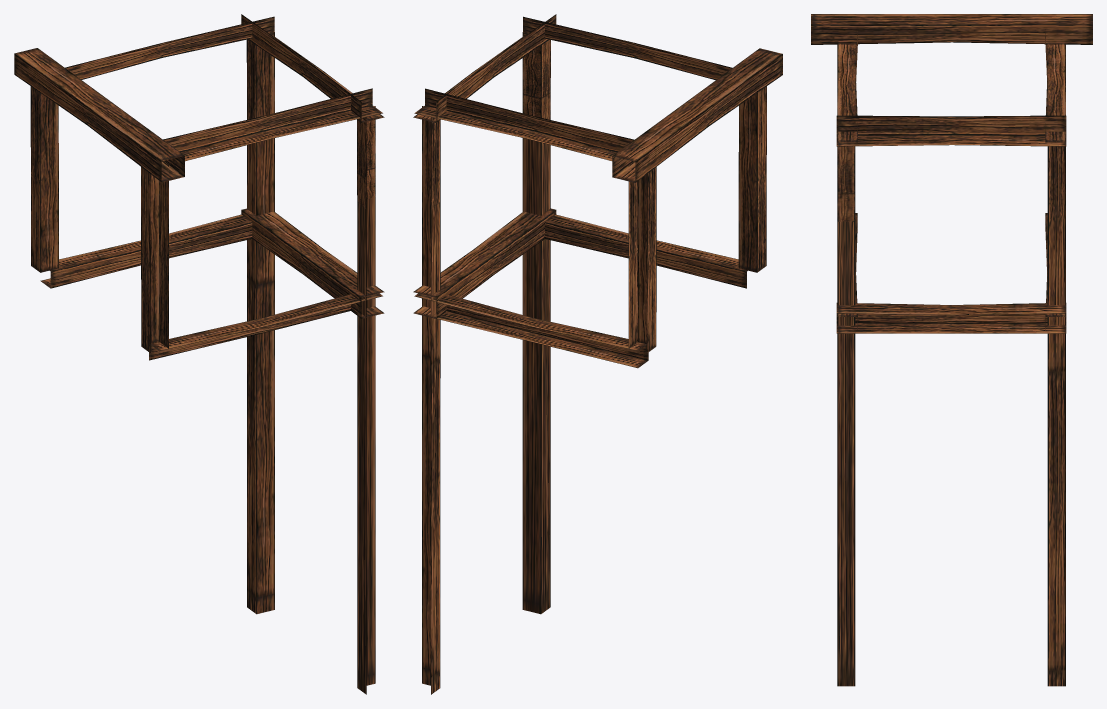
File: LAKETOWN_WAREHOUSE2_PS_WH2_BEAMS4475.fbx
3 views of the same model, side by side, from view 1: azimuth 30°, elevation 25°; view 2: azimuth 150°, elevation 25°; view 3: azimuth 270°, elevation 25° (orthographic). The views are drawn at different scales.
Visible parts, largest first — view 1: LAKETOWN_WAREHOUSE2_PS_WH2_BEAMS4475; view 2: LAKETOWN_WAREHOUSE2_PS_WH2_BEAMS4475; view 3: LAKETOWN_WAREHOUSE2_PS_WH2_BEAMS4475.
Part boxes in pixels (bbox=[...]): LAKETOWN_WAREHOUSE2_PS_WH2_BEAMS4475: bbox=[14, 14, 384, 694]; LAKETOWN_WAREHOUSE2_PS_WH2_BEAMS4475: bbox=[413, 14, 782, 694]; LAKETOWN_WAREHOUSE2_PS_WH2_BEAMS4475: bbox=[811, 14, 1092, 686].
Size of the model in its own units: 25181 by 60588 by 27133.
1 material, 1 textured.
